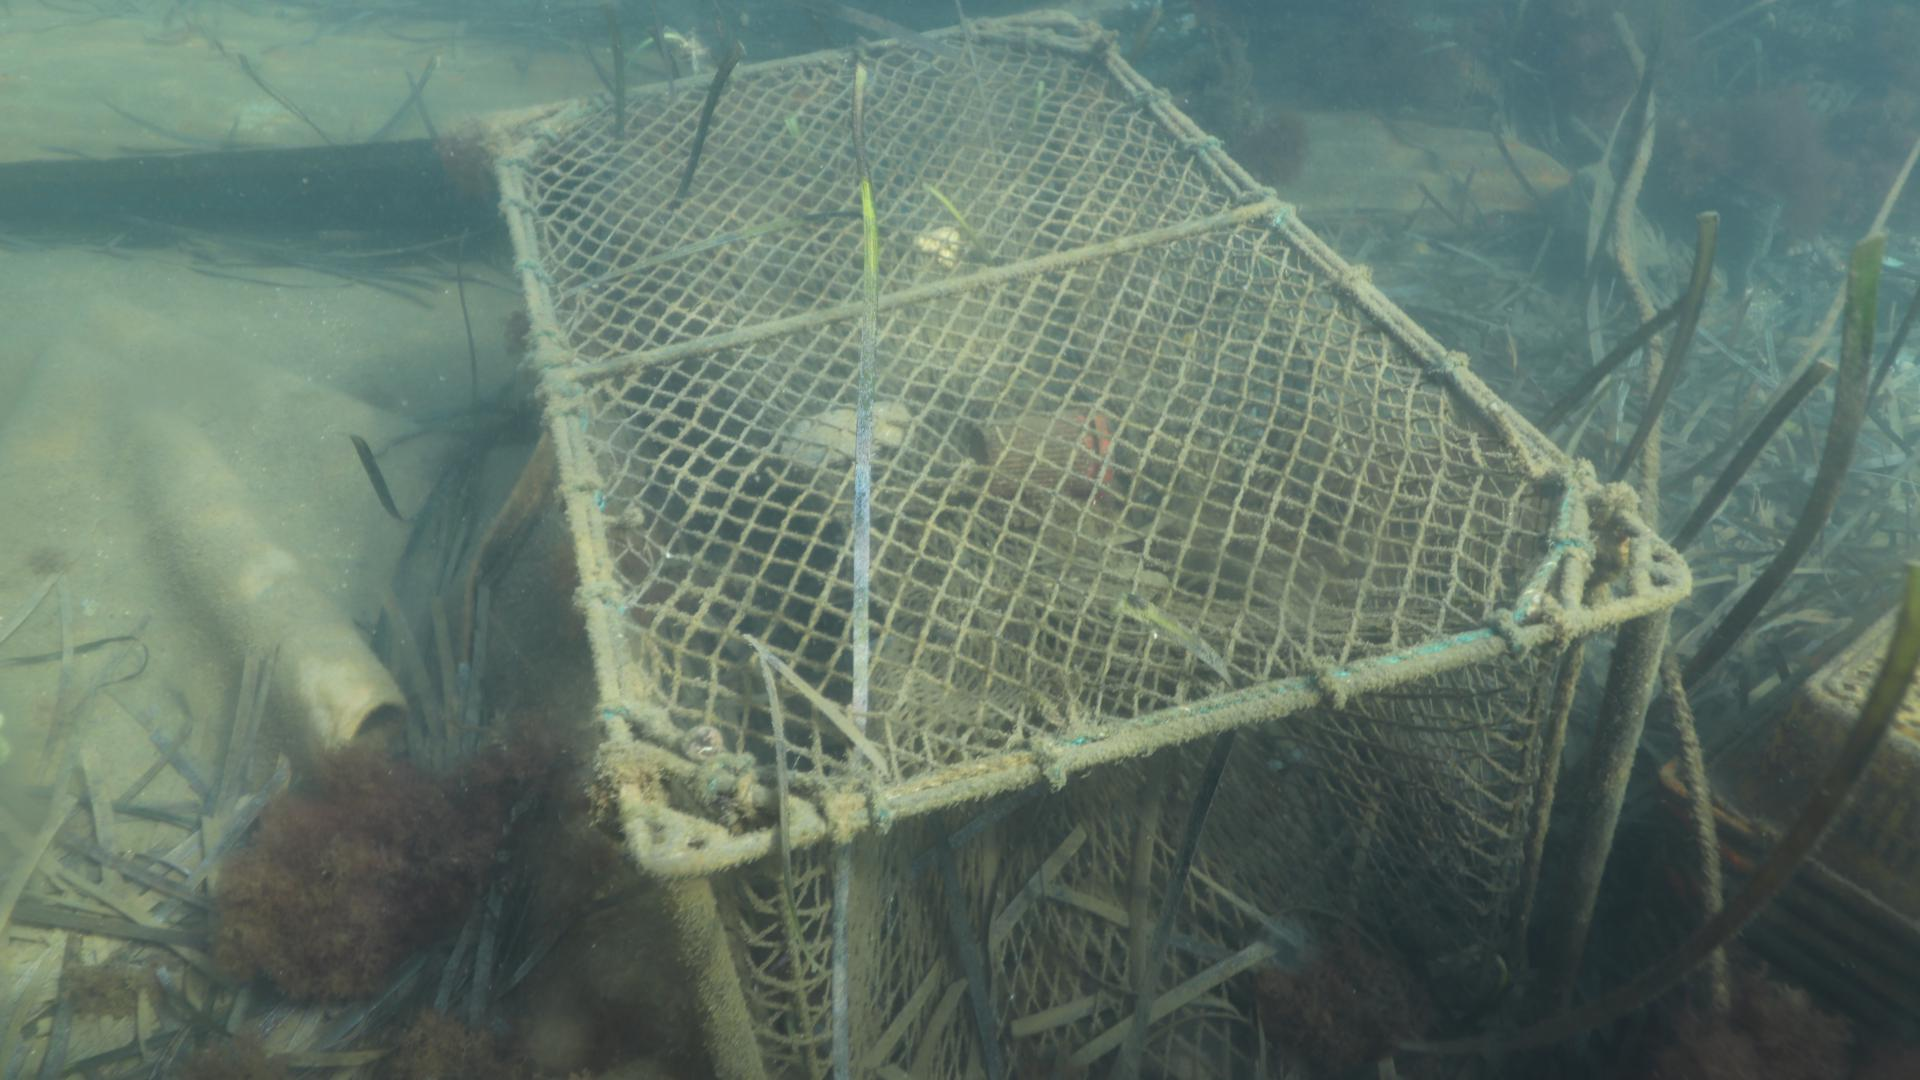rectangular fish trap: (480, 7, 1693, 1080)
rope: (1607, 0, 1727, 1004)
